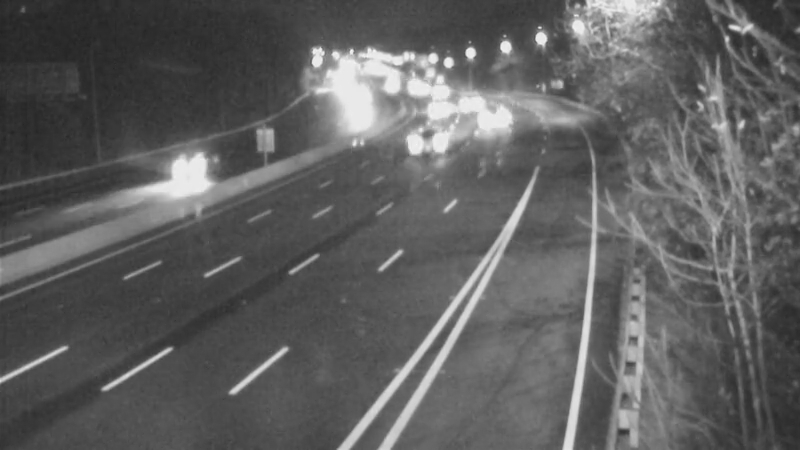vehicle: (146, 137, 226, 217), (445, 74, 495, 124), (414, 81, 464, 131), (472, 84, 522, 134), (400, 121, 450, 171)
